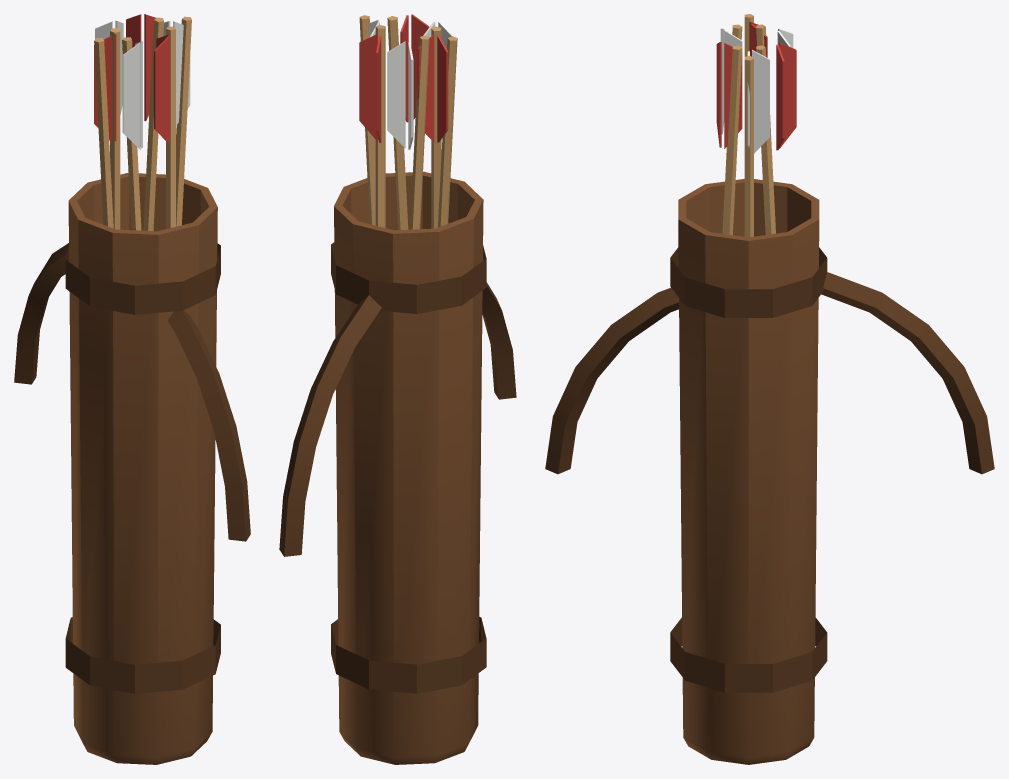
The model's file is SM_Arrow_Quiver.glb.
3 renders of one model, left to right at view 1: azimuth 30°, elevation 25°; view 2: azimuth 150°, elevation 25°; view 3: azimuth 270°, elevation 25°, orthographic.
Parts seen in each view (by area): view 1: SM_Arrow_Quiver; view 2: SM_Arrow_Quiver; view 3: SM_Arrow_Quiver.
Part boxes in pixels (x1,y1,x2,y2): SM_Arrow_Quiver: (14,14,250,764); SM_Arrow_Quiver: (279,14,516,764); SM_Arrow_Quiver: (545,14,994,764).
Size of the model in its own units: 0.1408 by 0.73 by 0.424.
1 material, 1 textured.
